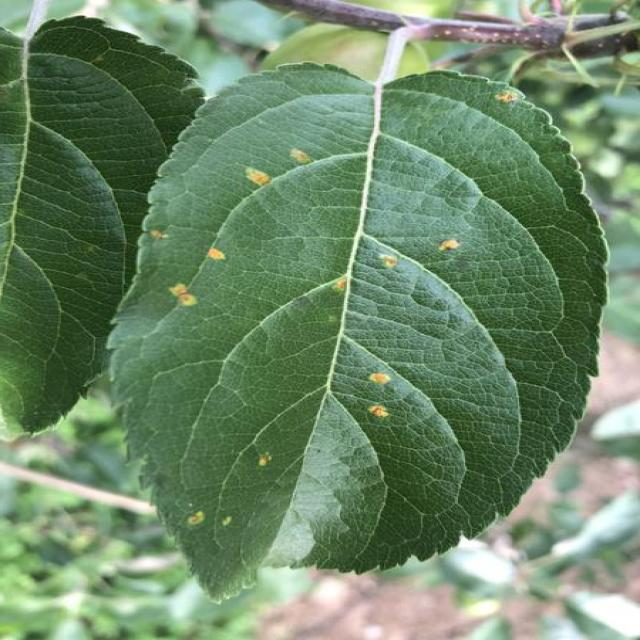Gymnosporangium_Rusts: (139, 51, 486, 564)
